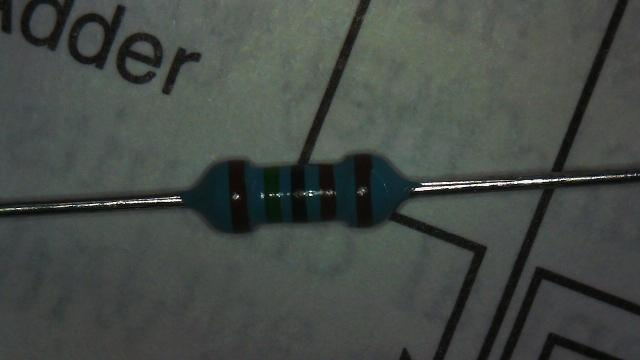black: (290, 166, 307, 222)
brown: (229, 160, 250, 232), (354, 154, 373, 228), (318, 164, 336, 220)
green: (264, 167, 281, 222)
resistor: (171, 131, 431, 266)
